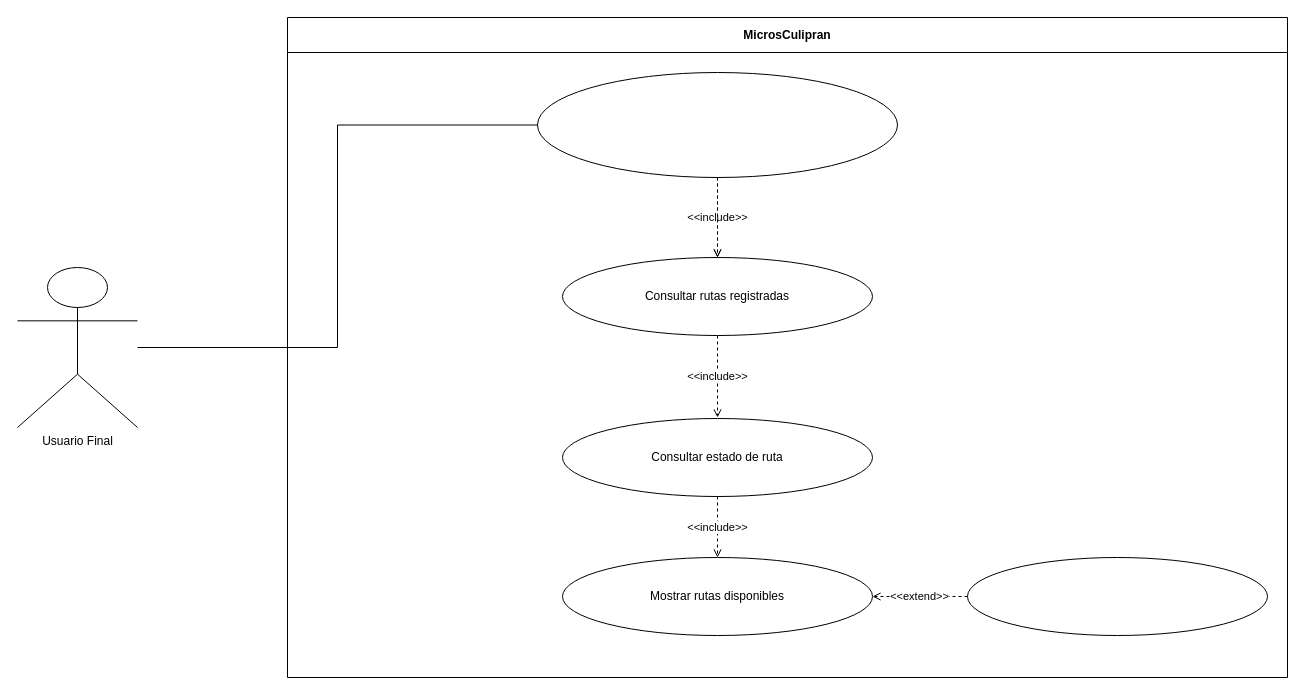
This 1305x695 diagram has some shape labels left out. Here are the shapes that lost their labels. From the top down, the centre of each, then its label:
(717,125): CU-03 Visualizar rutas
(1117,596): Informar rutas no disponibles
